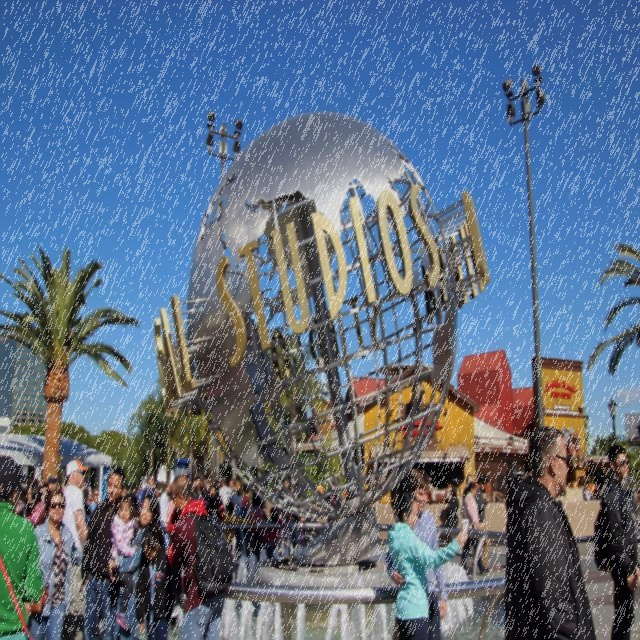pessoa: (503, 426, 598, 640), (385, 488, 468, 640), (384, 466, 448, 640), (589, 440, 640, 640), (169, 473, 227, 640), (24, 488, 84, 640), (80, 466, 128, 640), (107, 490, 161, 640), (0, 453, 38, 639), (132, 524, 179, 640), (61, 460, 90, 640), (110, 494, 141, 630), (460, 481, 490, 578), (471, 474, 494, 574), (222, 501, 256, 554), (226, 475, 245, 567), (262, 506, 288, 560), (287, 488, 306, 558), (275, 477, 291, 556), (246, 493, 264, 563), (200, 479, 227, 523), (444, 485, 460, 553), (26, 482, 46, 530), (18, 474, 50, 504), (160, 480, 172, 556), (326, 476, 341, 524), (85, 487, 100, 532), (460, 474, 474, 516), (218, 475, 231, 516), (560, 428, 580, 452), (141, 473, 156, 503), (44, 476, 59, 504), (240, 482, 251, 518), (121, 482, 143, 500), (188, 476, 202, 500), (81, 474, 92, 504), (200, 477, 222, 491), (634, 488, 640, 527), (268, 482, 278, 504), (582, 481, 592, 501), (56, 478, 66, 492), (593, 486, 602, 500), (494, 490, 502, 503), (228, 478, 234, 494), (152, 485, 159, 498)
